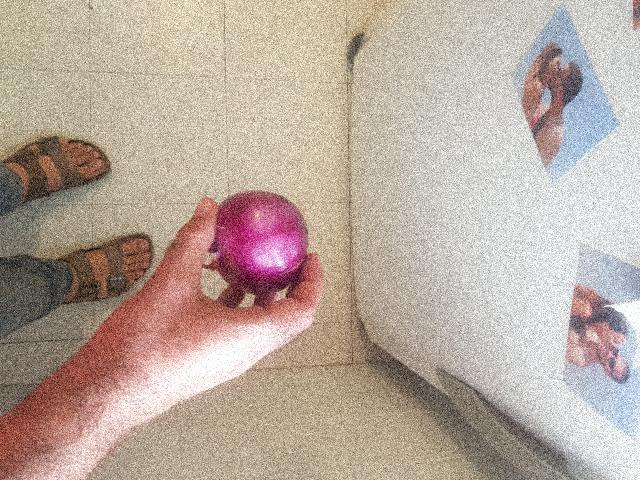onion: (213, 190, 318, 290)
